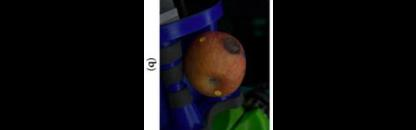defect: (217, 34, 242, 58)
